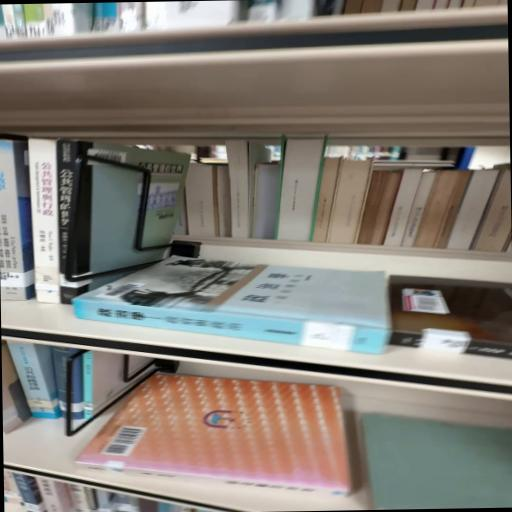flat: (77, 375, 351, 497), (74, 257, 392, 354)
